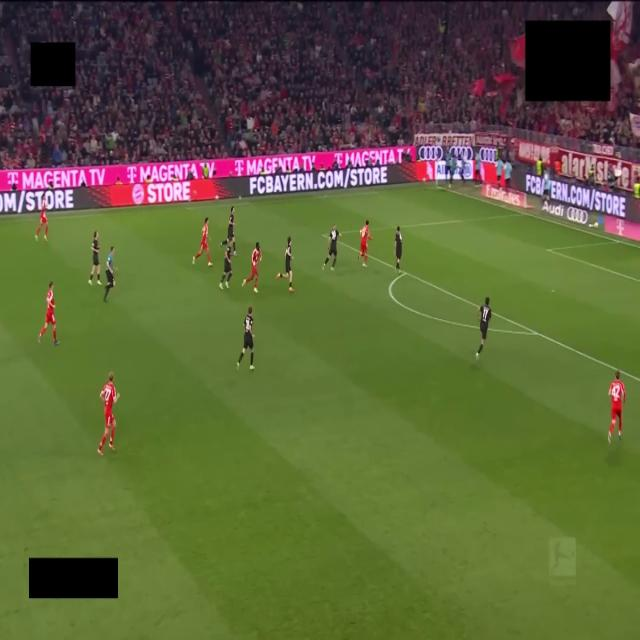player: (98, 373, 119, 455), (38, 281, 58, 345), (608, 371, 625, 442), (237, 306, 254, 370), (242, 242, 261, 293), (192, 217, 211, 266), (476, 297, 491, 359), (277, 237, 293, 292), (323, 224, 340, 270), (220, 207, 236, 255), (89, 232, 101, 285), (359, 220, 372, 266), (219, 247, 232, 289), (35, 197, 47, 240), (395, 226, 402, 272), (543, 170, 551, 202)
referee: (104, 246, 115, 302)
